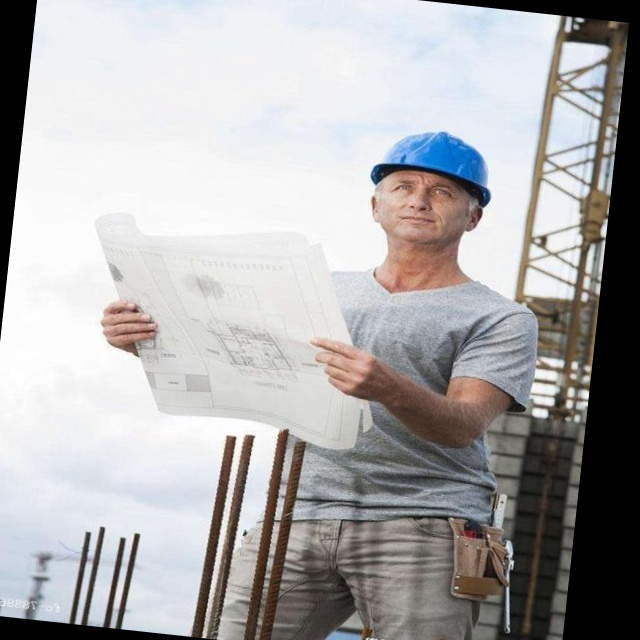Con_Casco: (363, 127, 498, 259)
